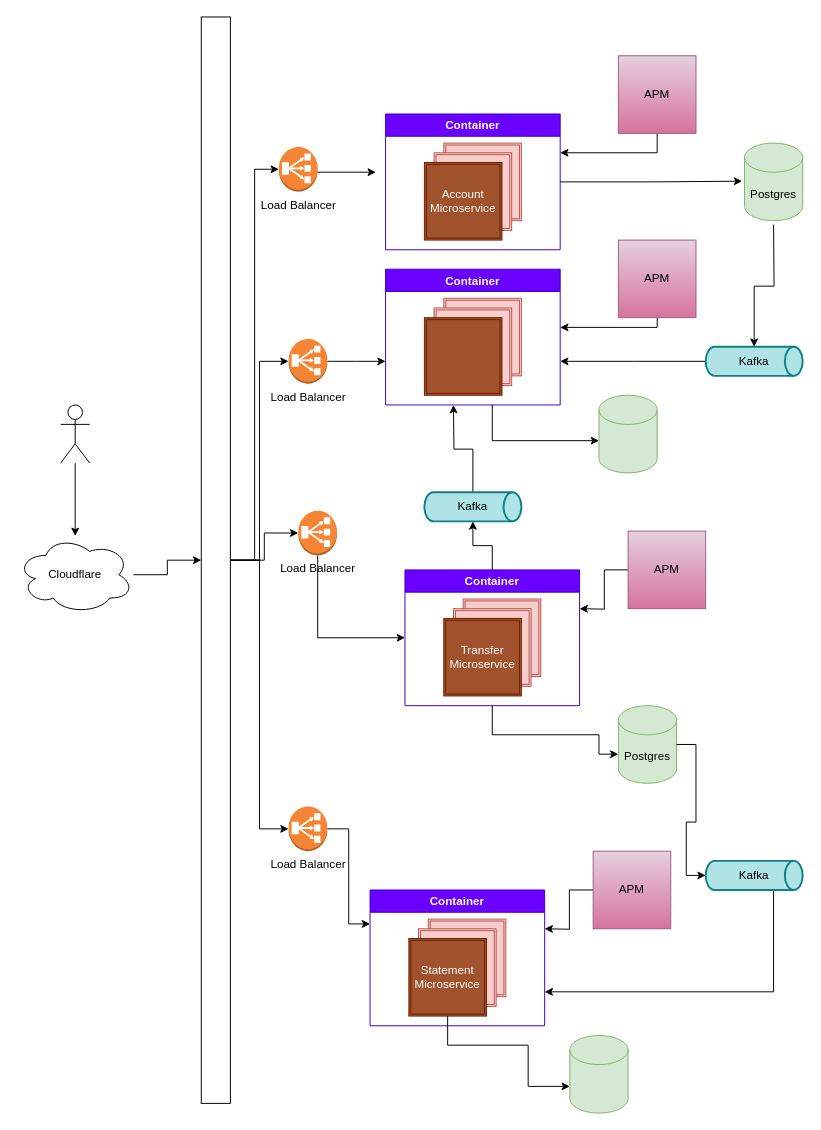
This 821x1130 diagram has some shape labels left out. Here are the shapes that lost their labels. From the top down, the box of each, then its label:
(423, 317, 502, 395): Balance Microservice
(60, 404, 90, 463): Actor
(598, 394, 657, 473): Dynamo
(200, 16, 230, 1103): API GATEWAY
(569, 1035, 628, 1113): MongoDB
